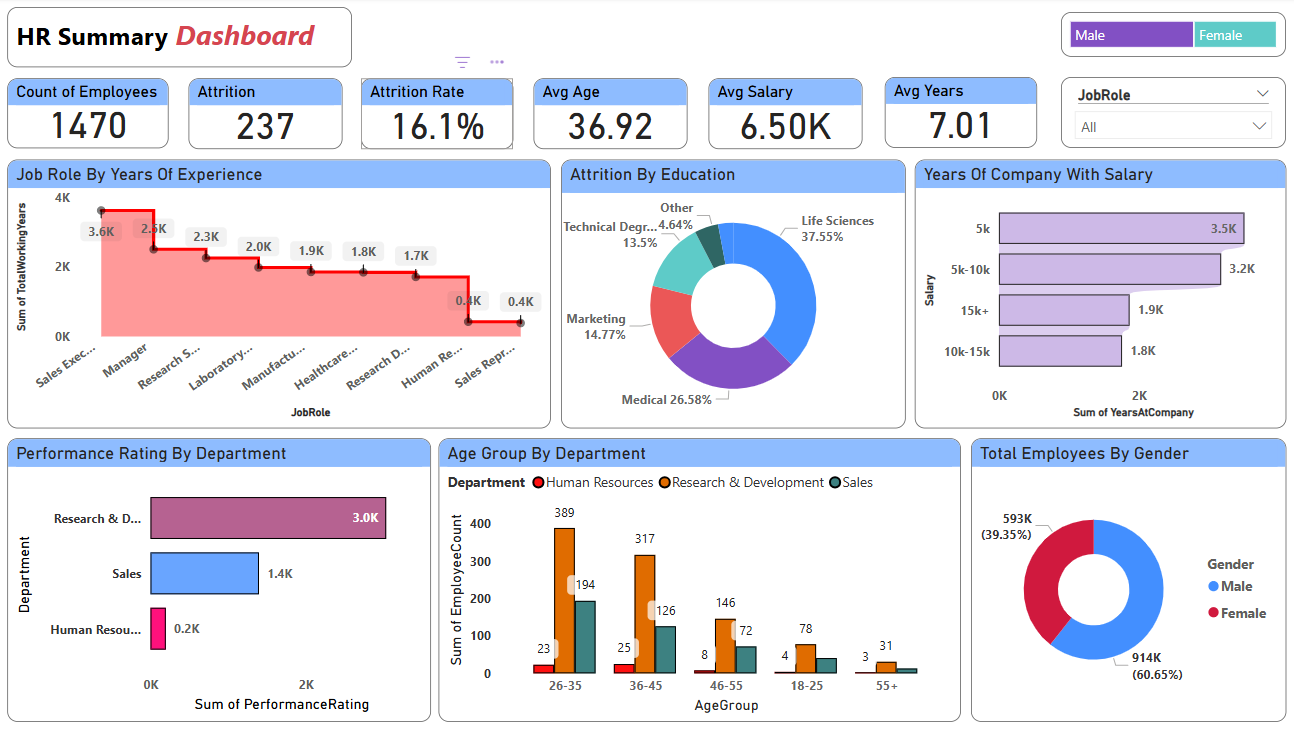

The dashboard page shown, as its layout file describes it:
{"tool":"powerbi","page":{"name":"Page 1","canvas":[1280,720],"ordinal":0},"visuals":[{"type":"card","title":"Count of Employees","fields":{"Values":["CountNonNull(HR_Analytics.EmpID)"]},"box":[11,79.8,158.3,68.7],"z":0},{"type":"card","title":"Attrition","fields":{"Values":["Sum(HR_Analytics.AttritionCount)"]},"box":[189,79.8,150.9,69.9],"z":1000},{"type":"card","title":"Avg Age","fields":{"Values":["Avg(HR_Analytics.Age)"]},"box":[527.6,79.8,150.9,69.9],"z":2000},{"type":"card","title":"Attrition Rate","fields":{"Values":["HR_Analytics.AttritionRate"]},"box":[358.3,79.8,149.7,69.9],"z":3000},{"type":"card","title":"Avg Salary","fields":{"Values":["Avg(HR_Analytics.MonthlyIncome)"]},"box":[699.4,79.8,150.9,69.9],"z":4000},{"type":"card","title":"Avg Years","fields":{"Values":["Avg(HR_Analytics.YearsAtCompany)"]},"box":[872.4,78.5,149.7,69.9],"z":5000},{"type":"donutChart","title":"Attrition By Education","fields":{"Y":["Sum(HR_Analytics.AttritionCount)"],"Category":["HR_Analytics.EducationField"]},"box":[554.6,159.5,338.7,263.8],"z":6000},{"type":"lineClusteredColumnComboChart","title":"Age Group By Department","fields":{"Category":["HR_Analytics.AgeGroup"],"Y":["Sum(HR_Analytics.EmployeeCount)"],"Series":["HR_Analytics.Department"]},"box":[434.4,433.1,512.9,278.5],"z":7000},{"type":"barChart","title":"Years Of Company With Salary","fields":{"Category":["HR_Analytics.Salary"],"Y":["Sum(HR_Analytics.YearsAtCompany)"]},"box":[901.8,159.5,364.4,263.8],"z":8000},{"type":"areaChart","title":"Job Role By Years Of Experience","fields":{"Category":["HR_Analytics.JobRole"],"Y":["Sum(HR_Analytics.TotalWorkingYears)"]},"box":[11,159.5,533.7,263.8],"z":9000},{"type":"barChart","title":"Performance Rating By Department","fields":{"Y":["Sum(HR_Analytics.PerformanceRating)"],"Category":["HR_Analytics.Department"]},"box":[11,433.1,416,278.5],"z":10000},{"type":"donutChart","title":"Total Employees By Gender","fields":{"Category":["HR_Analytics.Gender"],"Y":["Sum(HR_Analytics.EmployeeNumber)"]},"box":[957.1,433.1,309.2,278.5],"z":11000},{"type":"textbox","box":[11,9.8,338.7,58.9],"z":12000},{"type":"treemap","fields":{"Group":["HR_Analytics.Gender"],"Values":["CountNonNull(HR_Analytics.Gender)"]},"box":[1045.4,14.7,220.9,44.2],"z":13000},{"type":"slicer","fields":{"Values":["HR_Analytics.JobRole"]},"box":[1045.4,78.5,220.9,69.9],"z":14000}]}

Visuals, with their boxes in screenshot pixels (x1, y1, x2, y2), scaled from the page's 1280x720 canvas onto the 1294x730 screenshot:
"Count of Employees" card: l=11, t=81, r=171, b=151
"Attrition" card: l=191, t=81, r=344, b=152
"Avg Age" card: l=533, t=81, r=686, b=152
"Attrition Rate" card: l=362, t=81, r=514, b=152
"Avg Salary" card: l=707, t=81, r=860, b=152
"Avg Years" card: l=882, t=80, r=1033, b=150
"Attrition By Education" donutChart: l=561, t=162, r=903, b=429
"Age Group By Department" lineClusteredColumnComboChart: l=439, t=439, r=958, b=721
"Years Of Company With Salary" barChart: l=912, t=162, r=1280, b=429
"Job Role By Years Of Experience" areaChart: l=11, t=162, r=551, b=429
"Performance Rating By Department" barChart: l=11, t=439, r=432, b=721
"Total Employees By Gender" donutChart: l=968, t=439, r=1280, b=721
textbox: l=11, t=10, r=354, b=70
treemap - HR_Analytics.Gender x CountNonNull(HR_Analytics.Gender): l=1057, t=15, r=1280, b=60
slicer - HR_Analytics.JobRole: l=1057, t=80, r=1280, b=150
